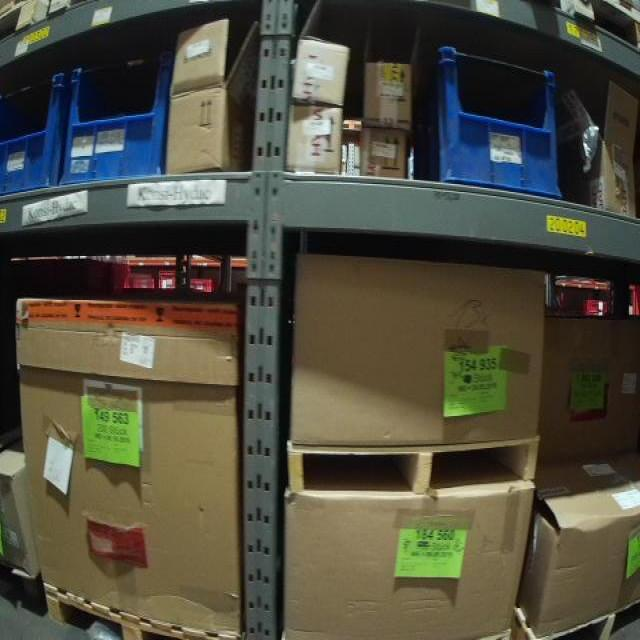pallet: (283, 431, 543, 506), (40, 581, 238, 640), (509, 596, 640, 640)
small_load_carrier: (412, 41, 568, 201), (61, 48, 176, 189), (1, 63, 74, 200), (156, 270, 181, 291), (183, 278, 216, 291)
